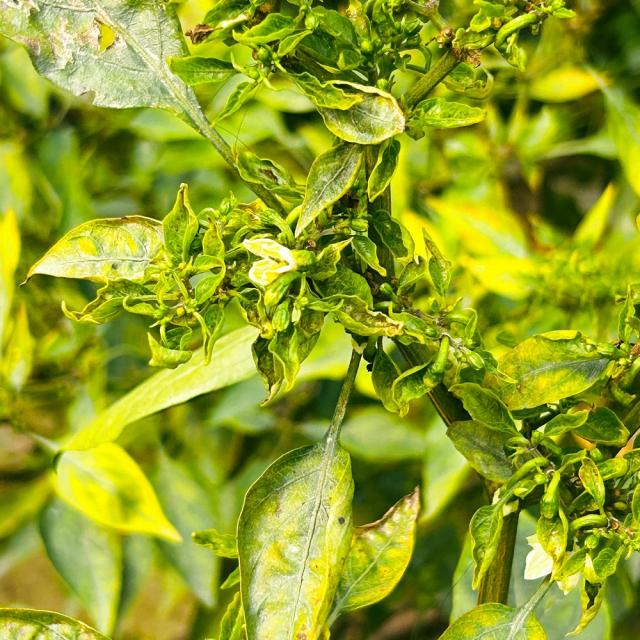Chilli_Leaf_Curl: (2, 0, 638, 638), (441, 285, 639, 637), (192, 336, 421, 638), (1, 0, 290, 218), (18, 182, 263, 368), (234, 440, 356, 638), (489, 328, 622, 412), (18, 214, 165, 286), (293, 141, 364, 238), (314, 80, 406, 146)
